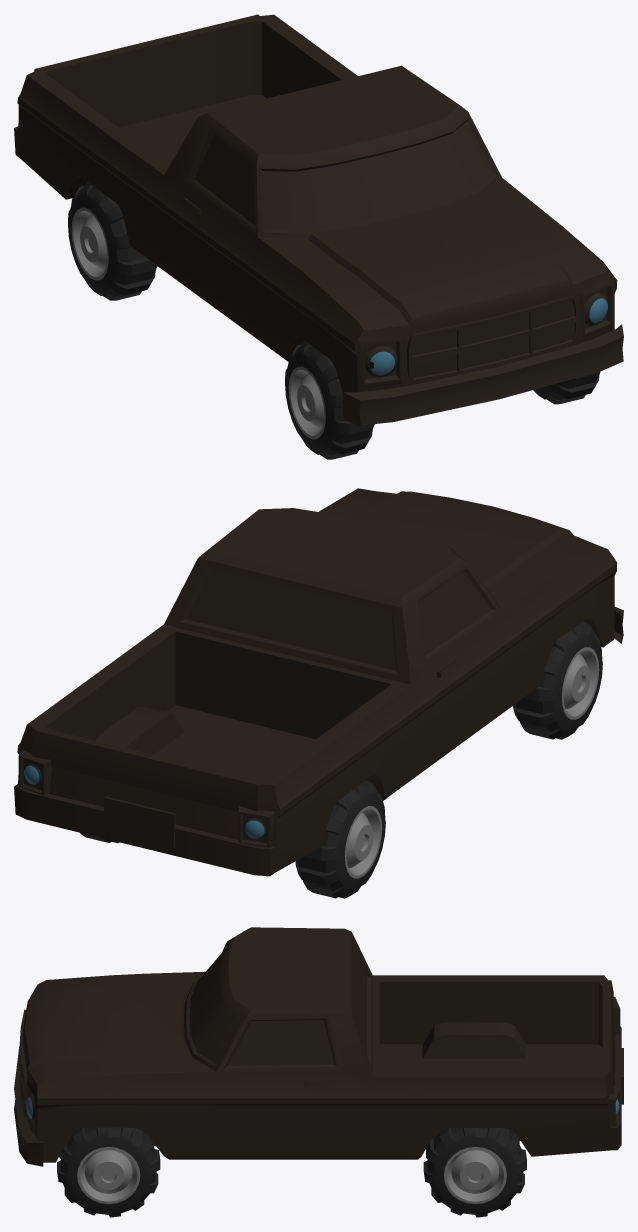
The model's file is citypack-pickup-L3.glb.
3 renders of one model, top to bottom at view 1: azimuth 30°, elevation 25°; view 2: azimuth 150°, elevation 25°; view 3: azimuth 270°, elevation 25°, orthographic. The views are drawn at different scales.
Visible parts, largest first — view 1: body, wheel-back-left, wheel-front-left, wheel-front-right; view 2: body, wheel-back-left, wheel-front-left; view 3: body, wheel-back-right, wheel-front-right.
Part boxes in pixels (left/top/right/bottom): body: left=14, top=14, right=623, bottom=425; wheel-back-left: left=68, top=182, right=157, bottom=300; wheel-front-left: left=285, top=340, right=374, bottom=459; wheel-front-right: left=533, top=372, right=600, bottom=404; body: left=14, top=488, right=623, bottom=876; wheel-back-left: left=295, top=780, right=385, bottom=898; wheel-front-left: left=512, top=621, right=602, bottom=739; body: left=14, top=927, right=623, bottom=1166; wheel-back-right: left=423, top=1128, right=526, bottom=1217; wheel-front-right: left=57, top=1127, right=160, bottom=1217.
Bounding box in the file's own units: 2.31 × 1.85 × 5.18.
2 materials, 2 textured.
